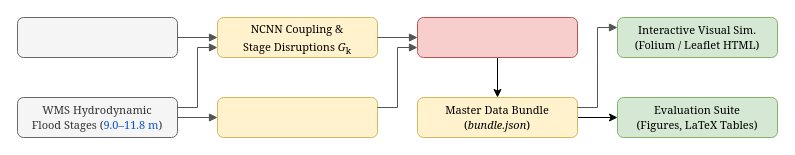
This 795x155 diagram has some shape labels left out. Each missing label, with the centre of its shape:
Dual-Resource FSM ( backup_lifetime ): pixel 297 117
Dynamic RoA Engine ( run_multi_tier_eval ): pixel 497 37
OSM Geospatial Data (Roads, POIs, Utilities): pixel 97 37
